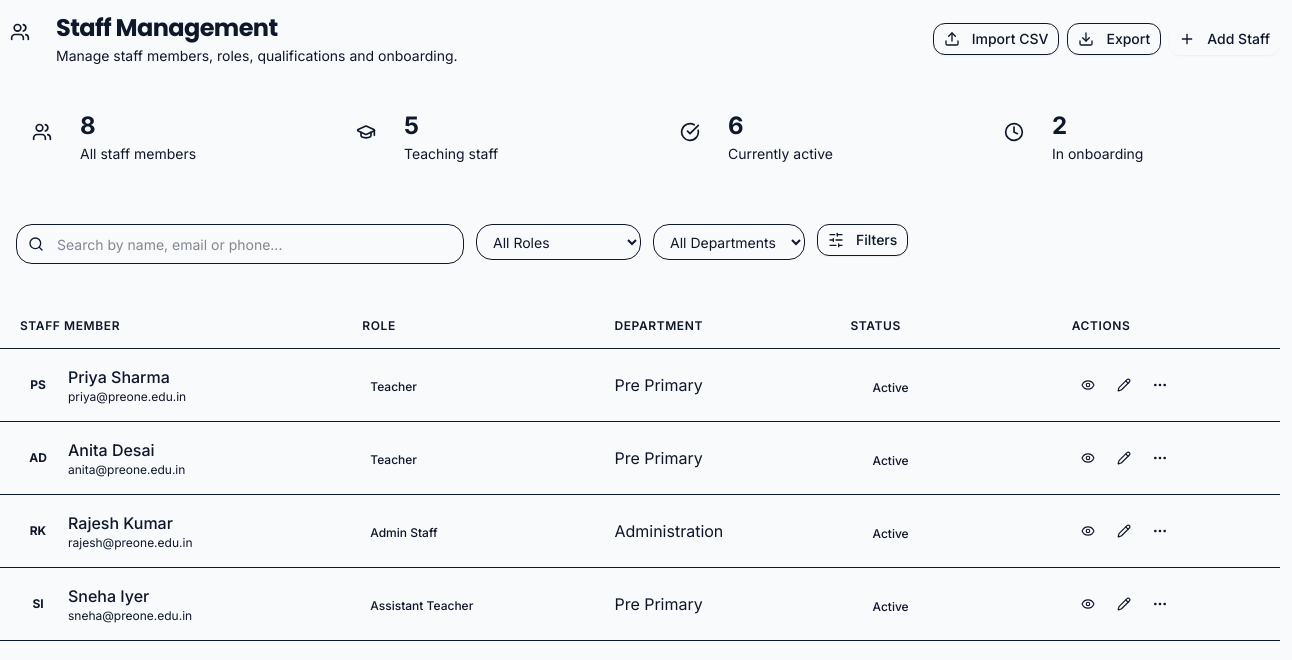
Test case: StaffManagementPage › switches to Details tab when clicked
What coordinates should you click on to do the following:
click the text "Priya Sharma"
I would click on:
 (127, 377)
Its box is [68,365,186,389].
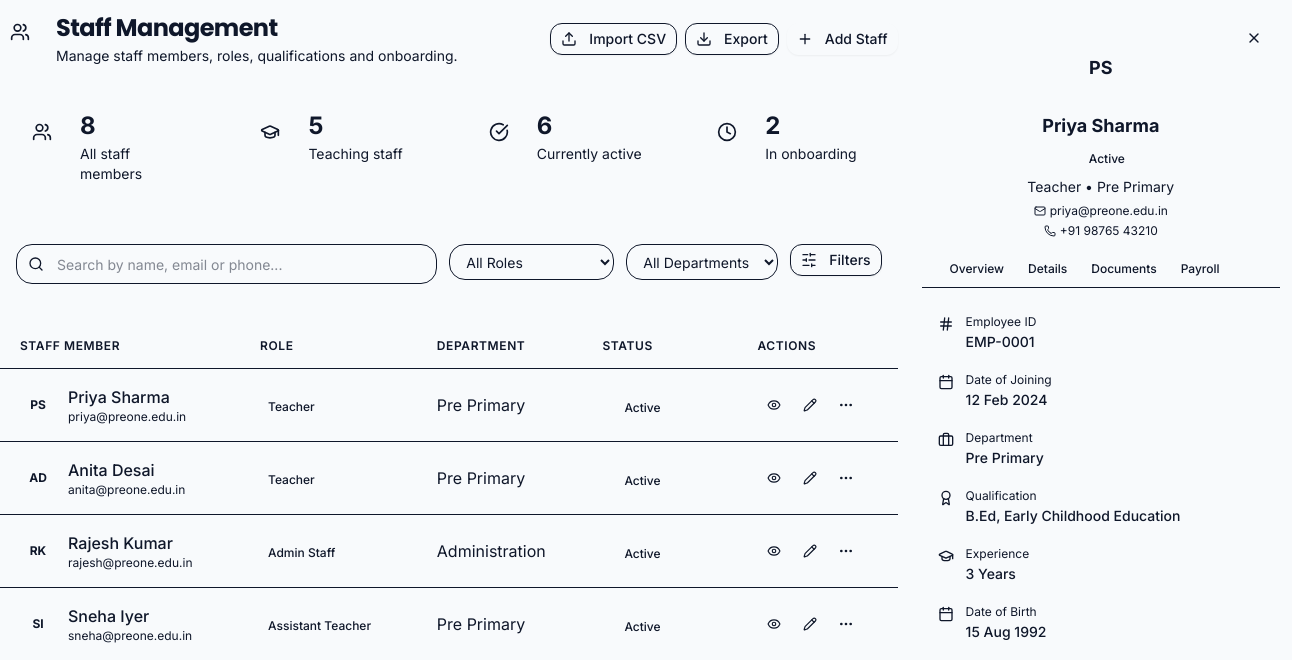
Now the text "Employee ID" is shown, box [966,314,1036,329]
Note: Click Details tab
What coordinates should you click on to do the following:
click the button "details"
I would click on:
 (1048, 269)
Its box is [1016,251,1079,287].
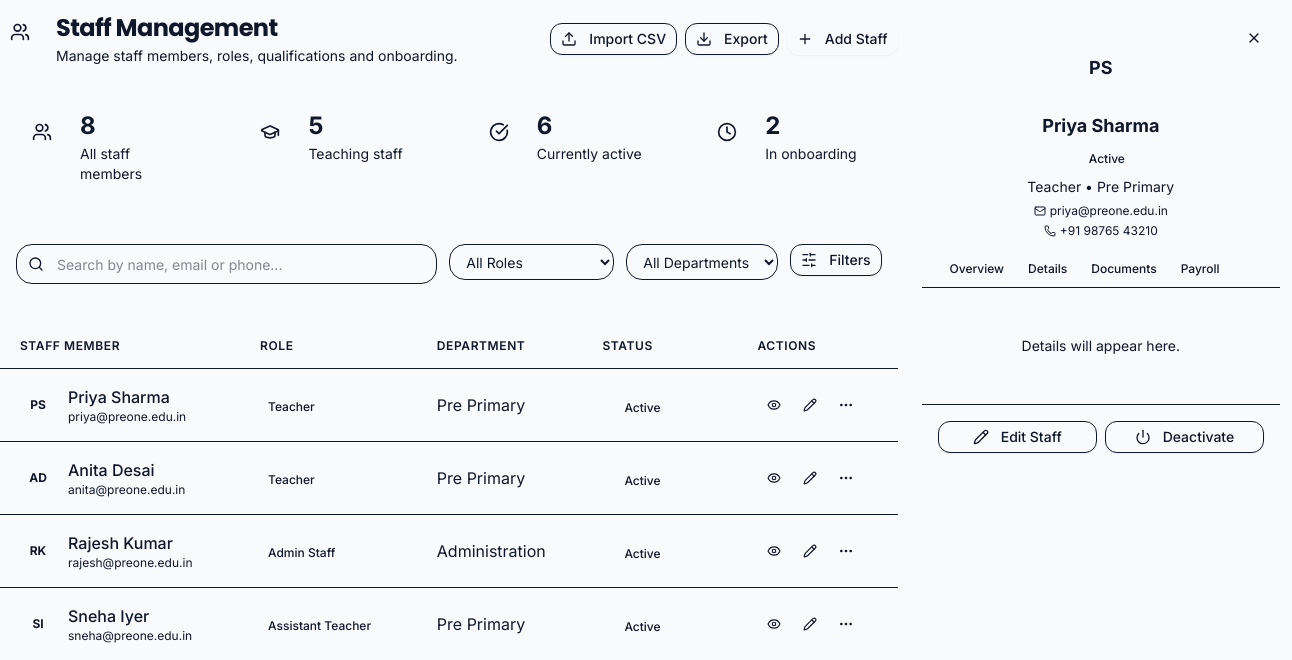
Now the text "Details will appear here." is shown, box [1022,337,1180,354]
